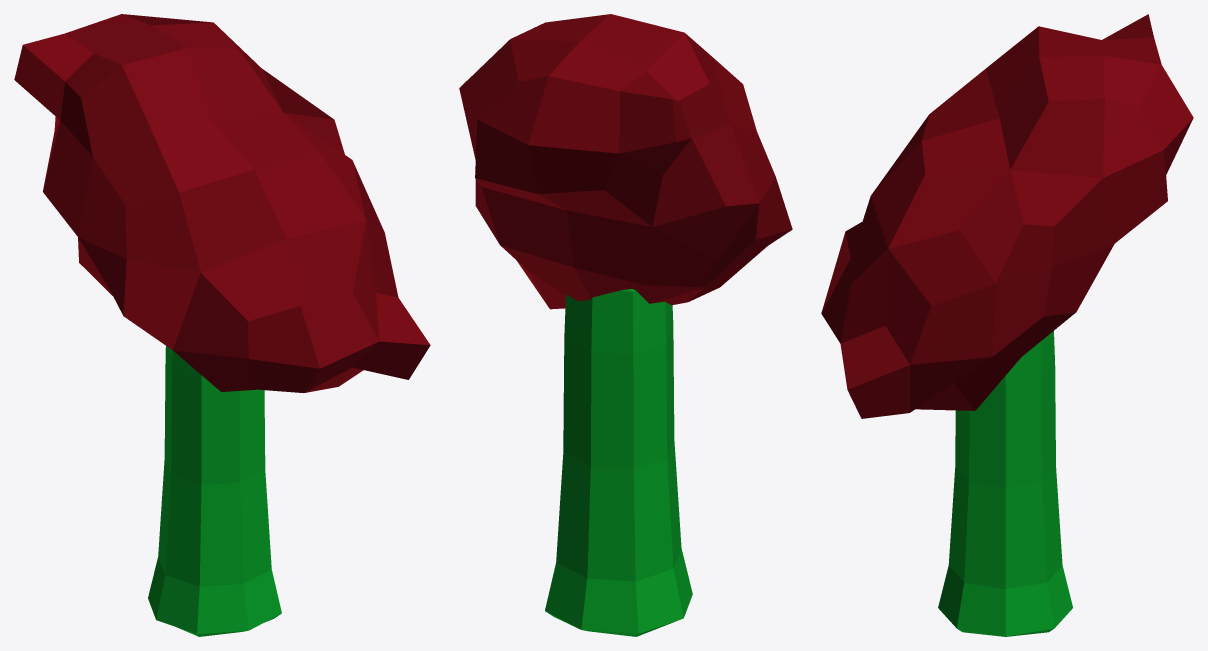
Rendered from flower1.fbx.
3 views of the same model, side by side, from view 1: azimuth 30°, elevation 25°; view 2: azimuth 150°, elevation 25°; view 3: azimuth 270°, elevation 25° (orthographic). The views are drawn at different scales.
Parts seen in each view (by area): view 1: Procedural Low Poly Rock, Cube; view 2: Procedural Low Poly Rock, Cube; view 3: Procedural Low Poly Rock, Cube.
Part boxes in pixels (box(x1,y1,x2,y2)): Procedural Low Poly Rock: box(14, 14, 430, 392); Cube: box(148, 346, 281, 636); Procedural Low Poly Rock: box(459, 14, 792, 309); Cube: box(545, 289, 692, 636); Procedural Low Poly Rock: box(821, 14, 1193, 418); Cube: box(938, 331, 1072, 636).
Bounding box in the file's own units: 104 × 203 × 124.
